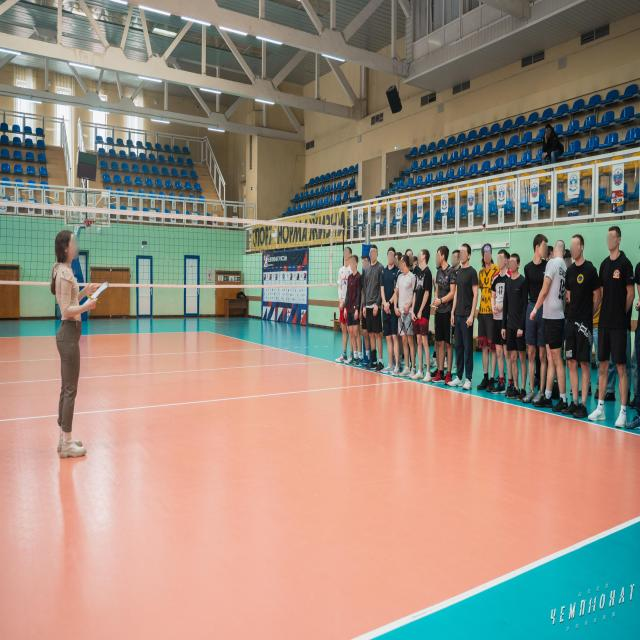Person: (49, 224, 93, 470), (587, 222, 630, 429), (565, 230, 593, 429), (540, 239, 568, 421), (526, 232, 548, 408), (477, 242, 500, 396), (508, 250, 528, 408), (432, 243, 453, 388), (454, 240, 474, 392), (414, 248, 434, 388), (366, 244, 386, 379), (396, 252, 416, 381), (494, 246, 511, 397), (384, 248, 402, 378), (346, 252, 364, 370), (338, 245, 354, 365), (536, 117, 570, 171), (449, 244, 467, 270), (543, 245, 556, 266), (361, 251, 372, 275), (407, 244, 418, 268), (564, 246, 575, 267)
